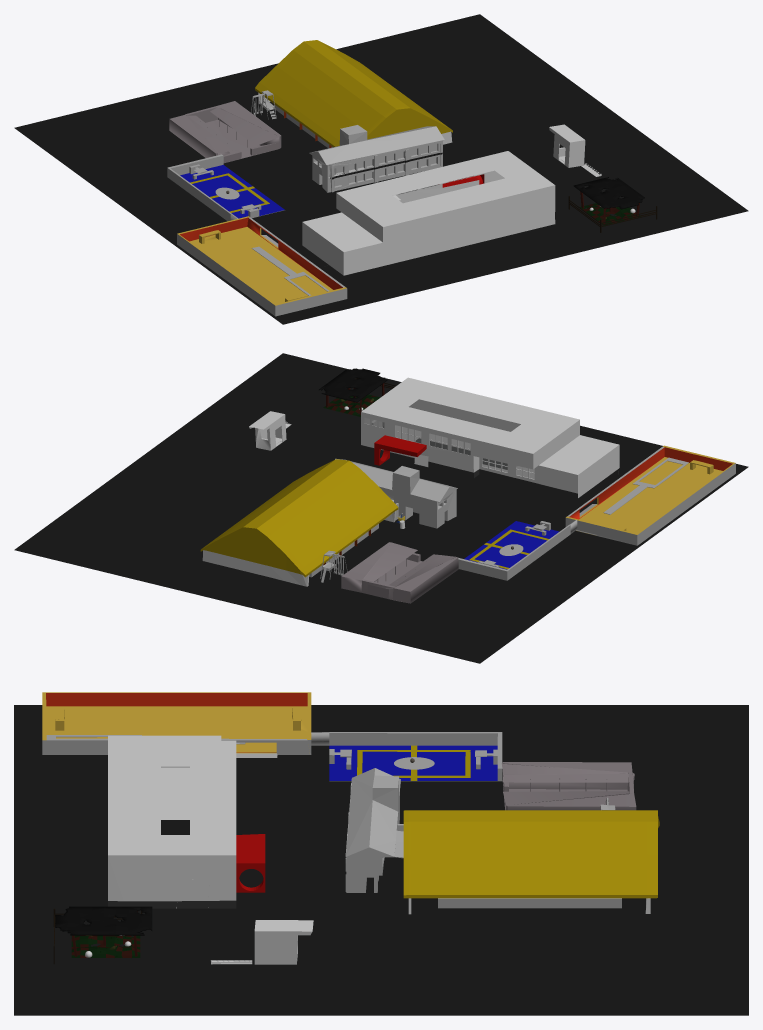
The model's file is novoprojetoescolaandando (2).obj.
3 views of the same model, one above another, from view 1: azimuth 30°, elevation 25°; view 2: azimuth 150°, elevation 25°; view 3: azimuth 270°, elevation 25° (orthographic). The views are drawn at different scales.
Visible parts, largest first — view 1: Plane, Cube.003, Cube_000_Cube.001, Cube.005_Cube.013, Cube.010, Cube.008_Cube.017, Cube.001_Cube.012, Plane.002, Cube.009, Plane.001_Plane.003; view 2: Plane, Cube.003, Cube_000_Cube.001, Cube.005_Cube.013, Cube.008_Cube.017, Cube.001_Cube.012, Cube.010, Plane.002, Cube.009, Plane.001_Plane.003; view 3: Plane, Cube_000_Cube.001, Cube.003, Cube.005_Cube.013, Cube.001_Cube.012, Cube.008_Cube.017, Cube.010, Plane.002, Cube.009, Plane.001_Plane.003.
Part boxes in pixels (x1=…): Plane: x1=14, y1=14, x2=748, y2=324; Cube.003: x1=302, y1=151, x2=555, y2=275; Cube_000_Cube.001: x1=255, y1=40, x2=452, y2=148; Cube.005_Cube.013: x1=177, y1=216, x2=347, y2=316; Cube.010: x1=309, y1=125, x2=444, y2=192; Cube.008_Cube.017: x1=169, y1=101, x2=281, y2=163; Cube.001_Cube.012: x1=167, y1=154, x2=284, y2=221; Plane.002: x1=573, y1=177, x2=644, y2=209; Cube.009: x1=549, y1=124, x2=585, y2=167; Plane.001_Plane.003: x1=580, y1=203, x2=641, y2=225; Plane: x1=14, y1=353, x2=748, y2=663; Cube.003: x1=361, y1=377, x2=619, y2=498; Cube_000_Cube.001: x1=200, y1=459, x2=398, y2=586; Cube.005_Cube.013: x1=565, y1=445, x2=735, y2=545; Cube.008_Cube.017: x1=341, y1=542, x2=458, y2=603; Cube.001_Cube.012: x1=458, y1=520, x2=577, y2=580; Cube.010: x1=335, y1=458, x2=457, y2=528; Plane.002: x1=319, y1=368, x2=387, y2=402; Cube.009: x1=249, y1=411, x2=286, y2=450; Plane.001_Plane.003: x1=323, y1=394, x2=380, y2=416; Plane: x1=14, y1=705, x2=748, y2=1015; Cube_000_Cube.001: x1=403, y1=810, x2=659, y2=914; Cube.003: x1=108, y1=735, x2=265, y2=908; Cube.005_Cube.013: x1=42, y1=692, x2=311, y2=757; Cube.001_Cube.012: x1=311, y1=732, x2=502, y2=781; Cube.008_Cube.017: x1=501, y1=762, x2=636, y2=810; Cube.010: x1=345, y1=768, x2=403, y2=892; Plane.002: x1=55, y1=906, x2=152, y2=935; Cube.009: x1=254, y1=920, x2=313, y2=964; Plane.001_Plane.003: x1=71, y1=935, x2=140, y2=958.
Size of the model in its own units: 901 by 96.8 by 901.
